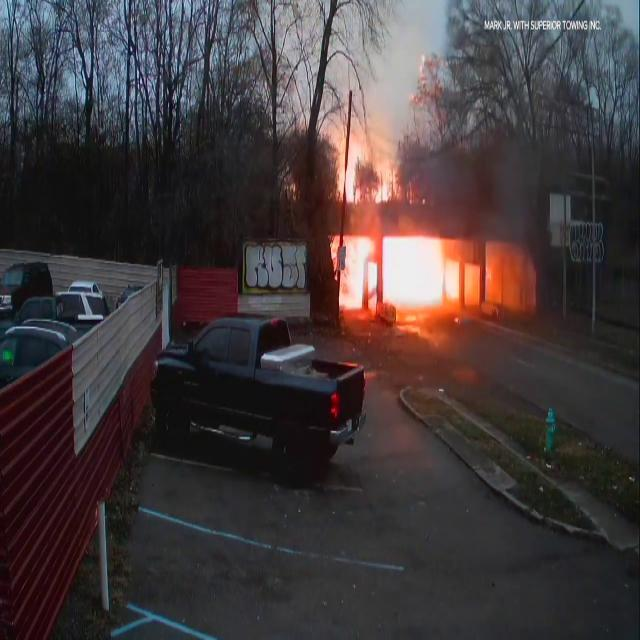Fire: (330, 224, 532, 319), (329, 120, 399, 220)
Smoke: (396, 120, 554, 252)
